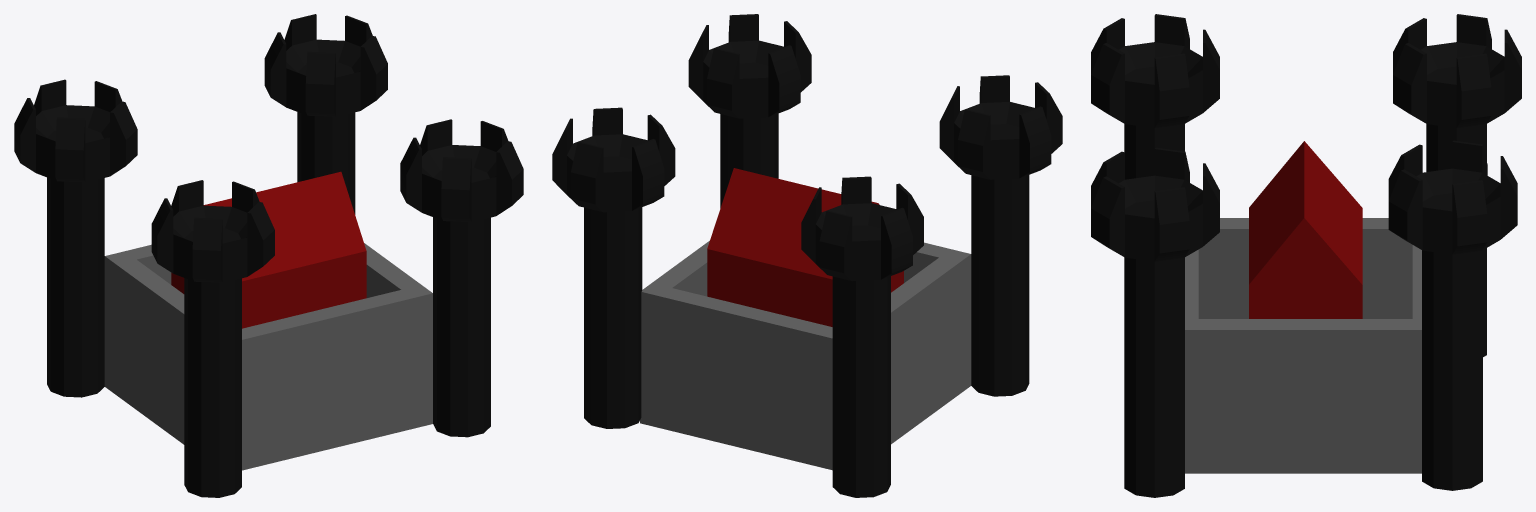
The picture shows the model from 3 angles, left to right: view 1: azimuth 30°, elevation 25°; view 2: azimuth 150°, elevation 25°; view 3: azimuth 270°, elevation 25°; orthographic projection. The views are drawn at different scales.
Visible parts, largest first — view 1: pCube1, pCylinder4, pCylinder2, pCylinder3, pCube2, pCylinder1; view 2: pCube1, pCylinder3, pCylinder2, pCylinder1, pCube2, pCylinder4; view 3: pCube1, pCylinder1, pCylinder4, pCube2, pCylinder3, pCylinder2.
Part boxes in pixels (x1,y1,x2,y2): pCube1: (104, 243, 432, 470); pCylinder4: (400, 119, 523, 437); pCylinder2: (14, 79, 137, 397); pCylinder3: (151, 180, 274, 497); pCube2: (171, 171, 366, 328); pCylinder1: (264, 14, 387, 214); pCube1: (640, 240, 971, 470); pCylinder3: (939, 75, 1062, 396); pCylinder2: (801, 176, 923, 497); pCylinder1: (552, 107, 675, 428); pCube2: (707, 168, 903, 326); pCylinder4: (688, 14, 811, 208); pCube1: (1185, 218, 1421, 473); pCylinder1: (1388, 140, 1517, 490); pCylinder4: (1091, 147, 1219, 497); pCube2: (1249, 141, 1362, 318); pCylinder3: (1091, 14, 1219, 179); pCylinder2: (1393, 14, 1521, 356).
Bounding box in the file's own units: 170 × 134 × 163.
